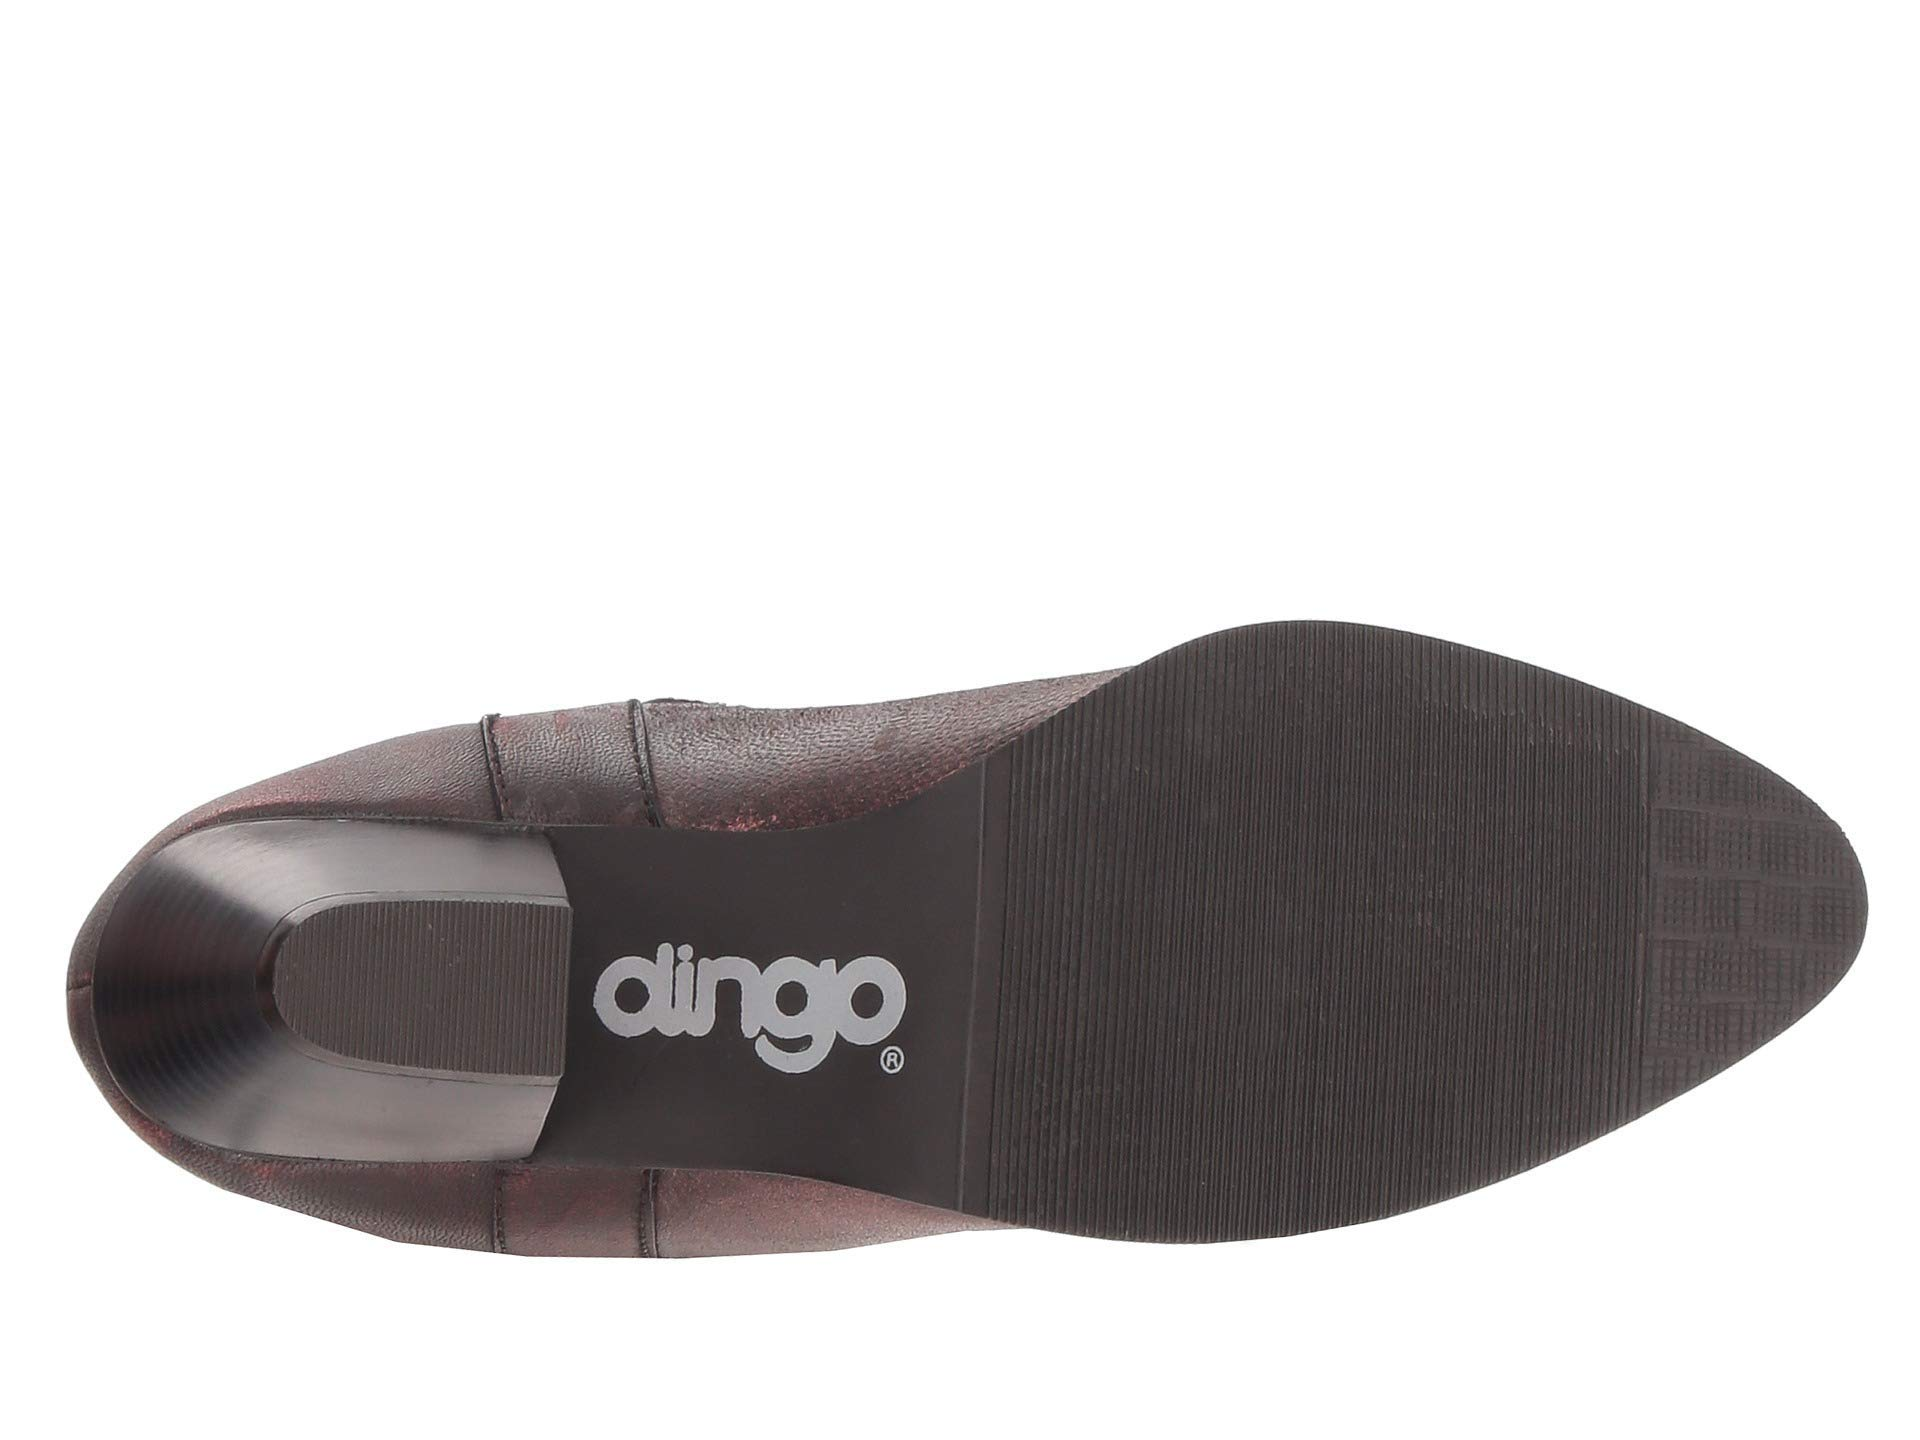exclude: (27, 637, 1149, 1286)
line: (1117, 672, 1598, 1153), (325, 923, 556, 1041)
quad: (1652, 776, 1805, 998)
